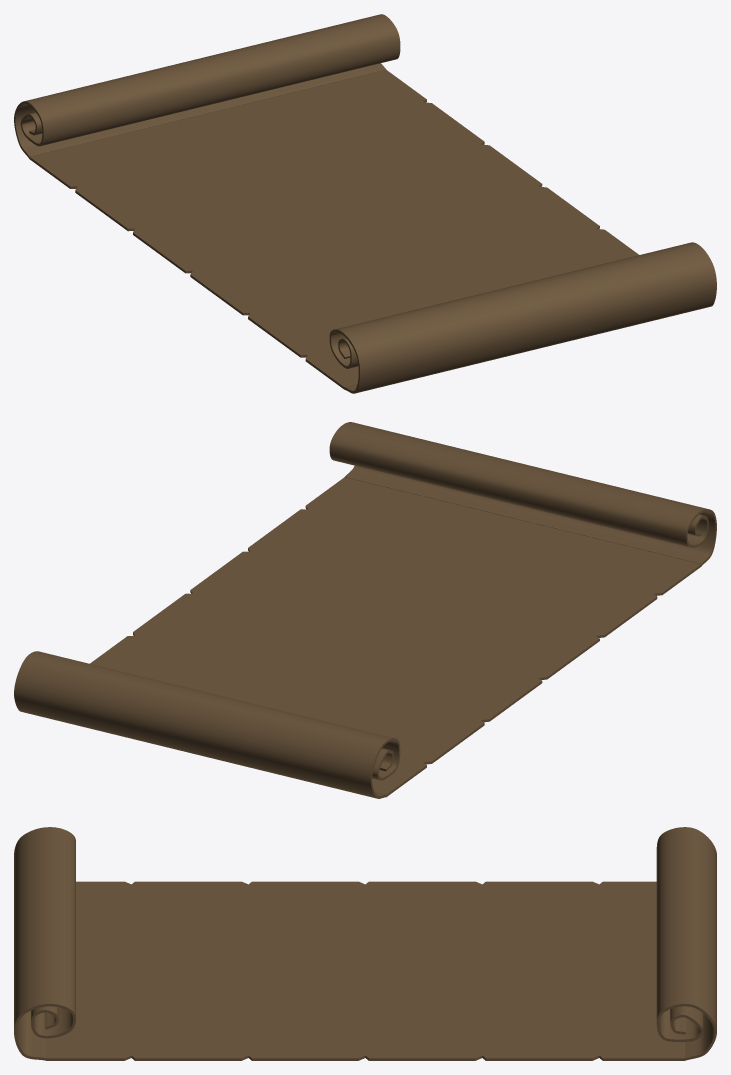
The picture shows the model from 3 angles, top to bottom: view 1: azimuth 30°, elevation 25°; view 2: azimuth 150°, elevation 25°; view 3: azimuth 270°, elevation 25°; orthographic projection.
Visible parts, largest first — view 1: sheet, rolled_sheet.001, rolled_sheet; view 2: sheet, rolled_sheet, rolled_sheet.001; view 3: sheet, rolled_sheet.001, rolled_sheet.
Boxes of the visible parts, x1,y1,x2,y2 form: sheet: [29, 70, 638, 389]; rolled_sheet.001: [329, 242, 716, 393]; rolled_sheet: [14, 14, 400, 158]; sheet: [90, 477, 701, 797]; rolled_sheet: [14, 651, 400, 798]; rolled_sheet.001: [329, 422, 716, 565]; sheet: [45, 881, 685, 1060]; rolled_sheet.001: [14, 827, 75, 1060]; rolled_sheet: [656, 827, 716, 1060].
Bounding box in the file's own units: 0.1538 × 0.0231 × 0.2584.
